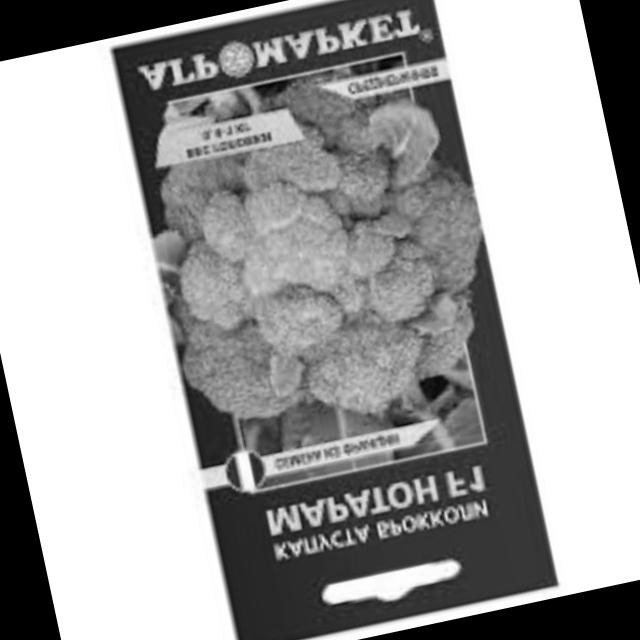broccoli: (159, 89, 488, 442)
